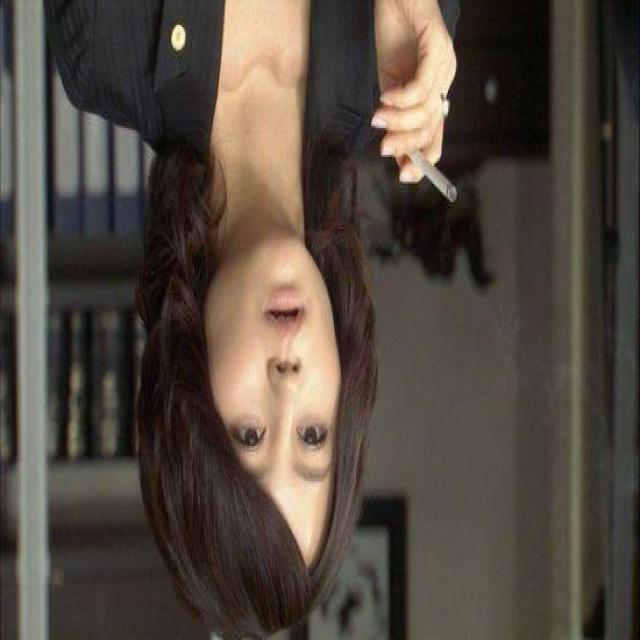cigarette: (354, 97, 478, 215)
